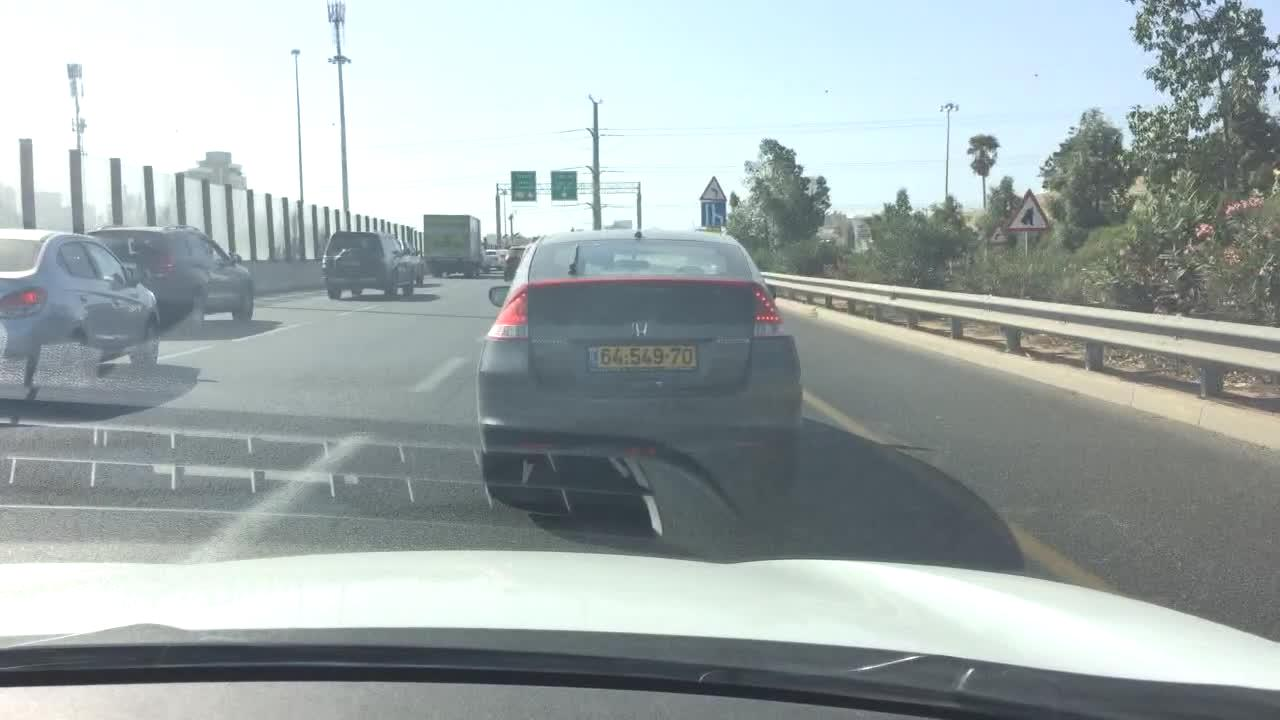Honda: (624, 312, 653, 342)
